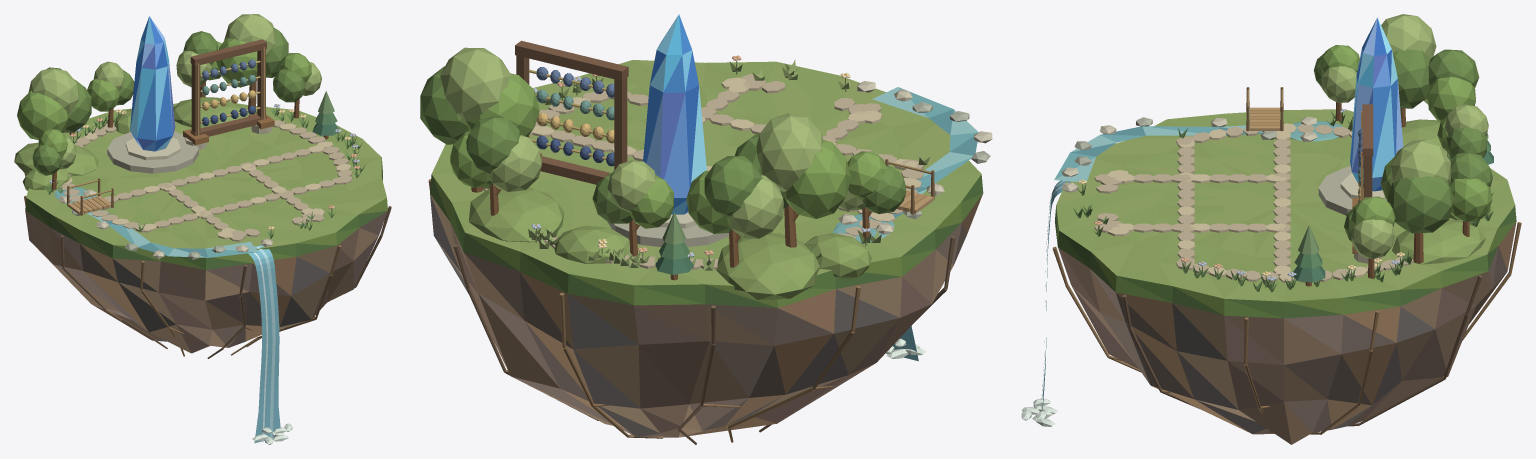
File: island_maths_v2.glb
The picture shows the model from 3 angles, left to right: view 1: azimuth 30°, elevation 25°; view 2: azimuth 150°, elevation 25°; view 3: azimuth 270°, elevation 25°; orthographic projection. The views are drawn at different scales.
Visible parts, largest first — view 1: SW14_meadow, SW14_cliff, SW14_leaves, SW14_stone, SW14_water, SW14_timber, SW14_crystal, SW14_roots, SW14_foam, SW14_flowers; view 2: SW14_meadow, SW14_cliff, SW14_leaves, SW14_stone, SW14_crystal, SW14_timber, SW14_water, SW14_roots; view 3: SW14_meadow, SW14_cliff, SW14_leaves, SW14_stone, SW14_crystal, SW14_roots, SW14_timber, SW14_water, SW14_foam.
Part boxes in pixels (<box>): SW14_meadow: <box>14,97,387,269</box>; SW14_cliff: <box>24,173,387,353</box>; SW14_leaves: <box>17,14,364,238</box>; SW14_stone: <box>59,59,352,259</box>; SW14_water: <box>54,187,280,443</box>; SW14_timber: <box>51,39,328,215</box>; SW14_crystal: <box>130,16,175,151</box>; SW14_roots: <box>24,195,391,358</box>; SW14_foam: <box>252,252,292,444</box>; SW14_flowers: <box>49,104,360,229</box>; SW14_meadow: <box>430,60,983,307</box>; SW14_cliff: <box>430,194,982,437</box>; SW14_leaves: <box>420,47,930,274</box>; SW14_stone: <box>483,67,992,269</box>; SW14_crystal: <box>643,14,706,214</box>; SW14_timber: <box>471,40,934,280</box>; SW14_water: <box>832,87,978,361</box>; SW14_roots: <box>428,179,955,444</box>; SW14_meadow: <box>1055,109,1516,318</box>; SW14_cliff: <box>1058,221,1516,444</box>; SW14_leaves: <box>1073,14,1493,292</box>; SW14_stone: <box>1061,116,1470,283</box>; SW14_crystal: <box>1350,17,1403,191</box>; SW14_roots: <box>1052,222,1521,434</box>; SW14_timber: <box>1246,87,1469,286</box>; SW14_water: <box>1041,121,1342,410</box>; SW14_foam: <box>1021,181,1064,426</box>.
Size of the model in its own units: 9.21 by 9.02 by 10.02.
